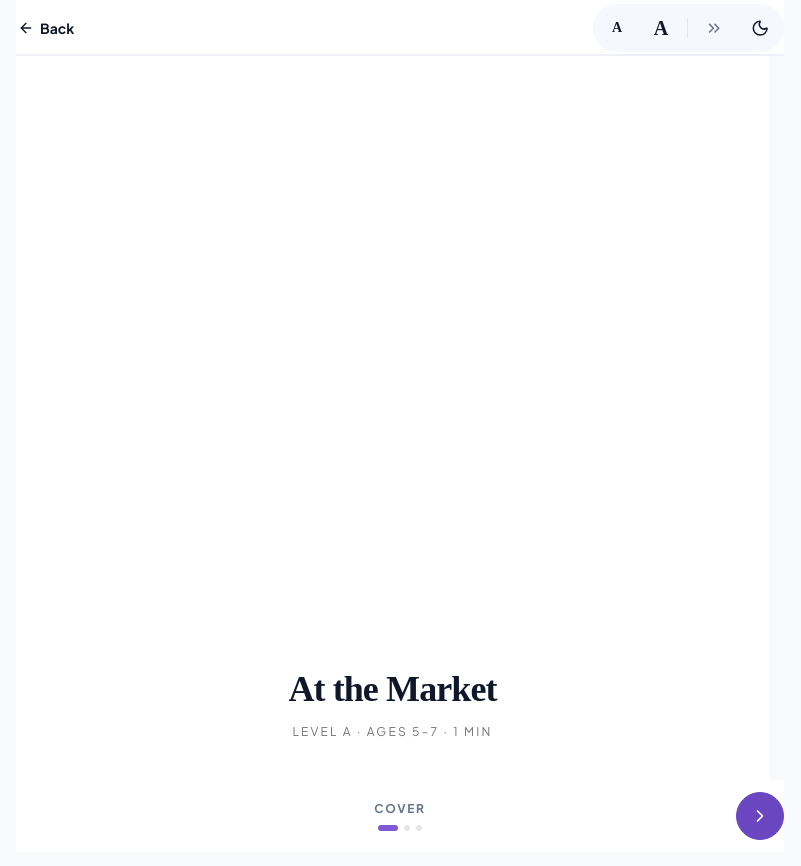
Test case: auto turn › turns to the next page and reads it when it is on, and remembers the choice
The width and height of the screenshot is (801, 866).
Click the button named "Next page".
click(760, 816)  # box [736,792,784,840]
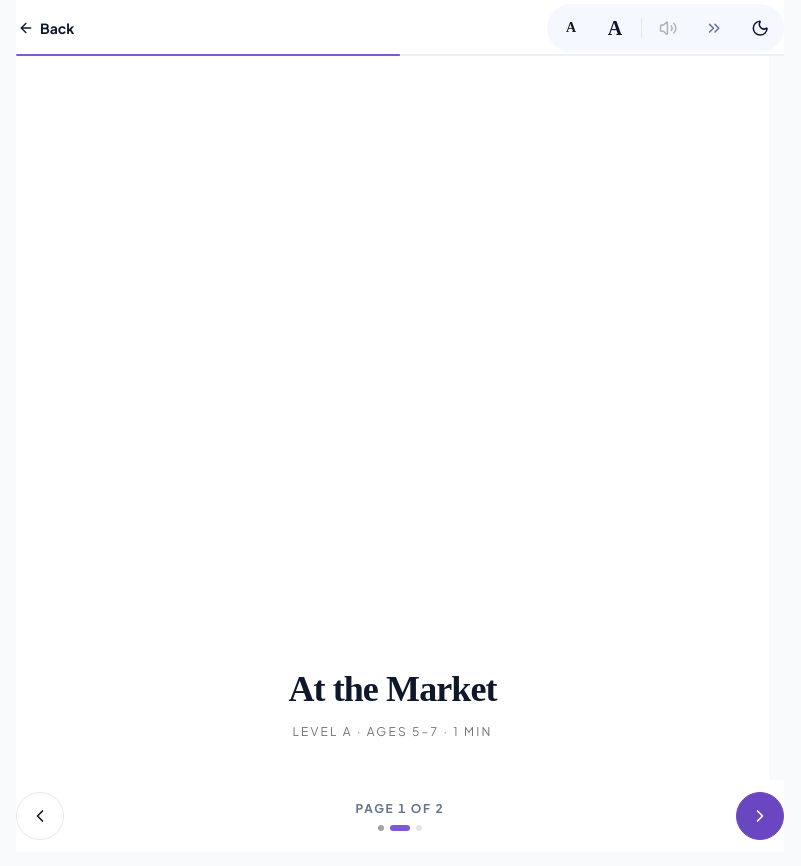
Click the button named "Turn pages by themselves".
click(714, 28)  # box [692,6,736,50]
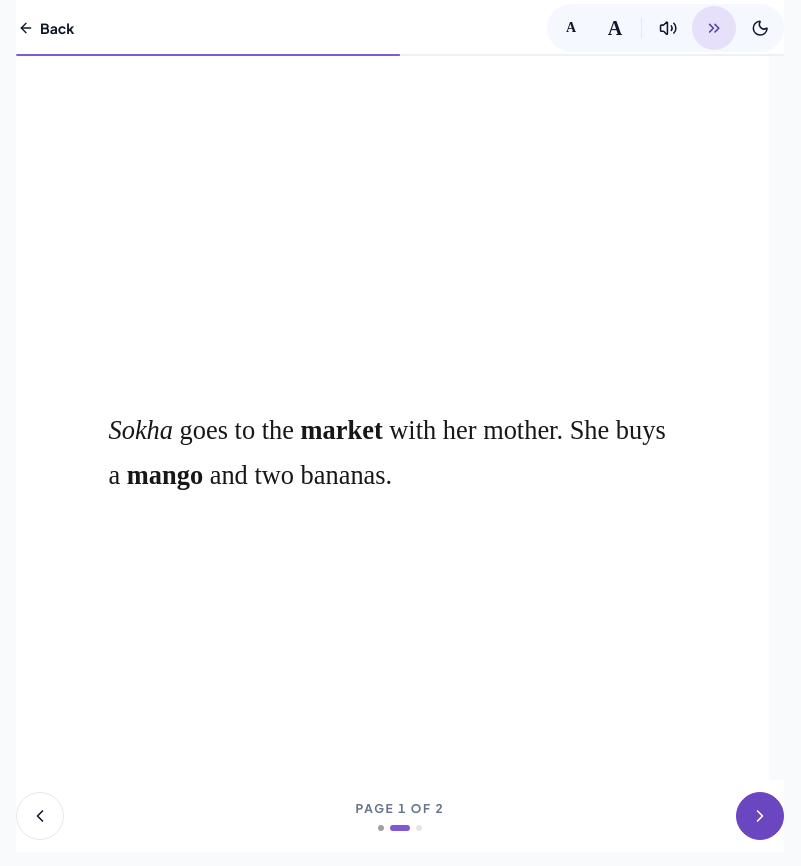
Now the button named "Play page recording" is enabled
Click the button named "Play page recording".
click(668, 28)  # box [646,6,690,50]
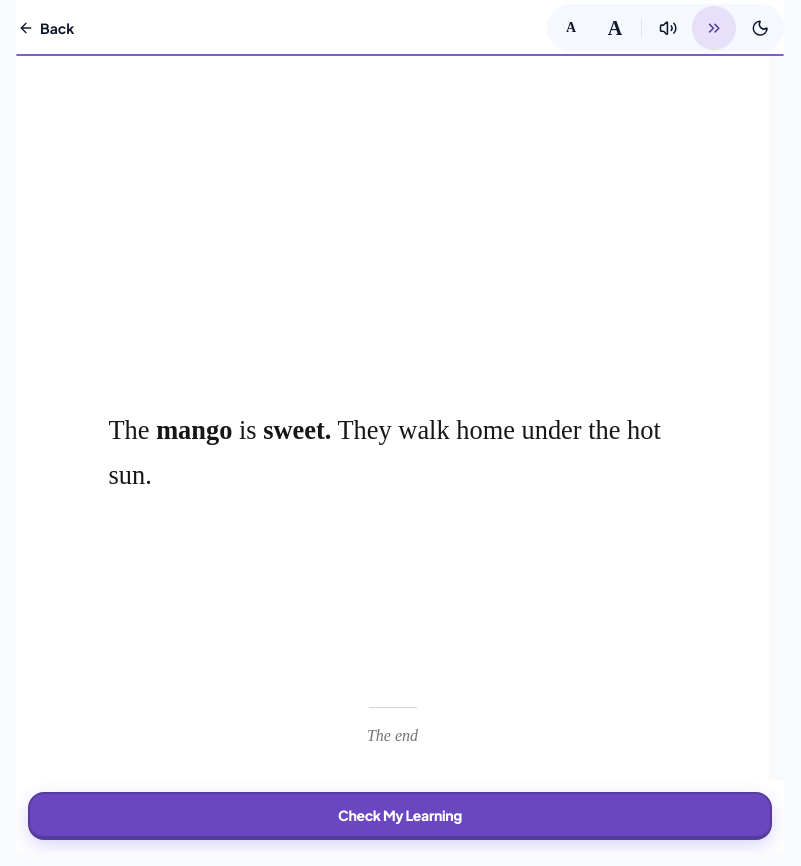
Now the button named "Play page recording" is shown, box [646,6,690,50]
Now the element named "Page 2 of 2" is shown, box [108,408,661,744]
